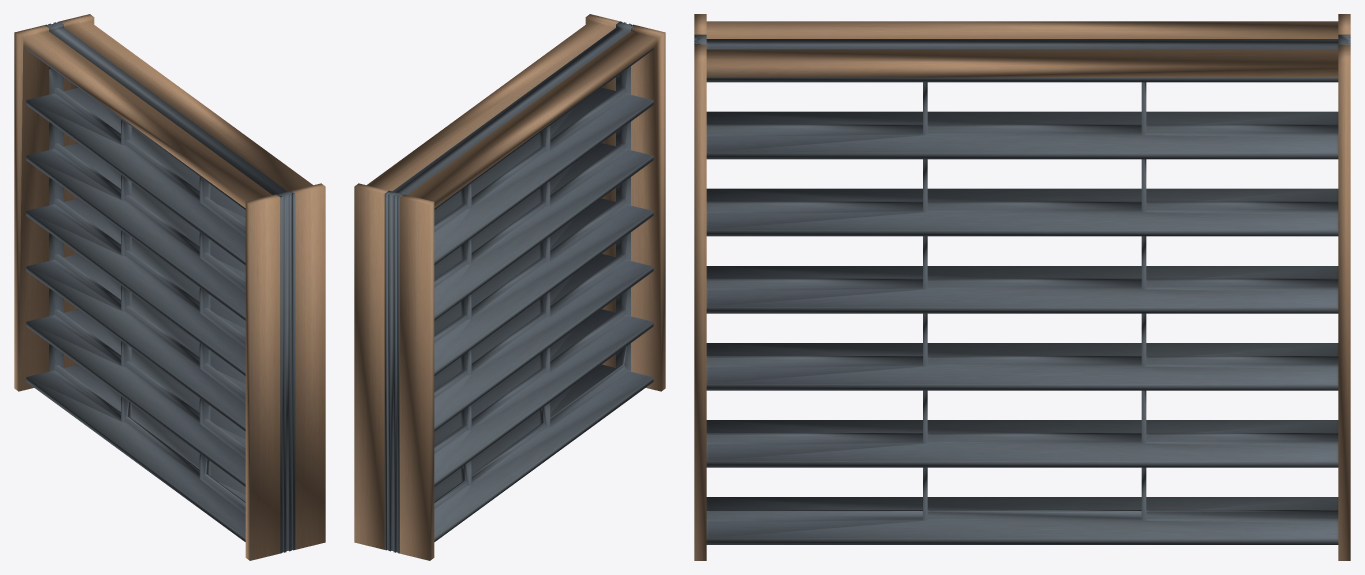
The model's file is BookShelf3.obj.
3 renders of one model, left to right at view 1: azimuth 30°, elevation 25°; view 2: azimuth 150°, elevation 25°; view 3: azimuth 270°, elevation 25°, orthographic. The views are drawn at different scales.
Visible parts, largest first — view 1: 3dSolid; view 2: 3dSolid; view 3: 3dSolid.
Boxes of the visible parts, box(x1,y1,x2,y2) form: 3dSolid: box(14, 14, 325, 560); 3dSolid: box(354, 14, 665, 560); 3dSolid: box(694, 14, 1350, 560).
Bounding box in the file's own units: 50 × 225 × 270.
